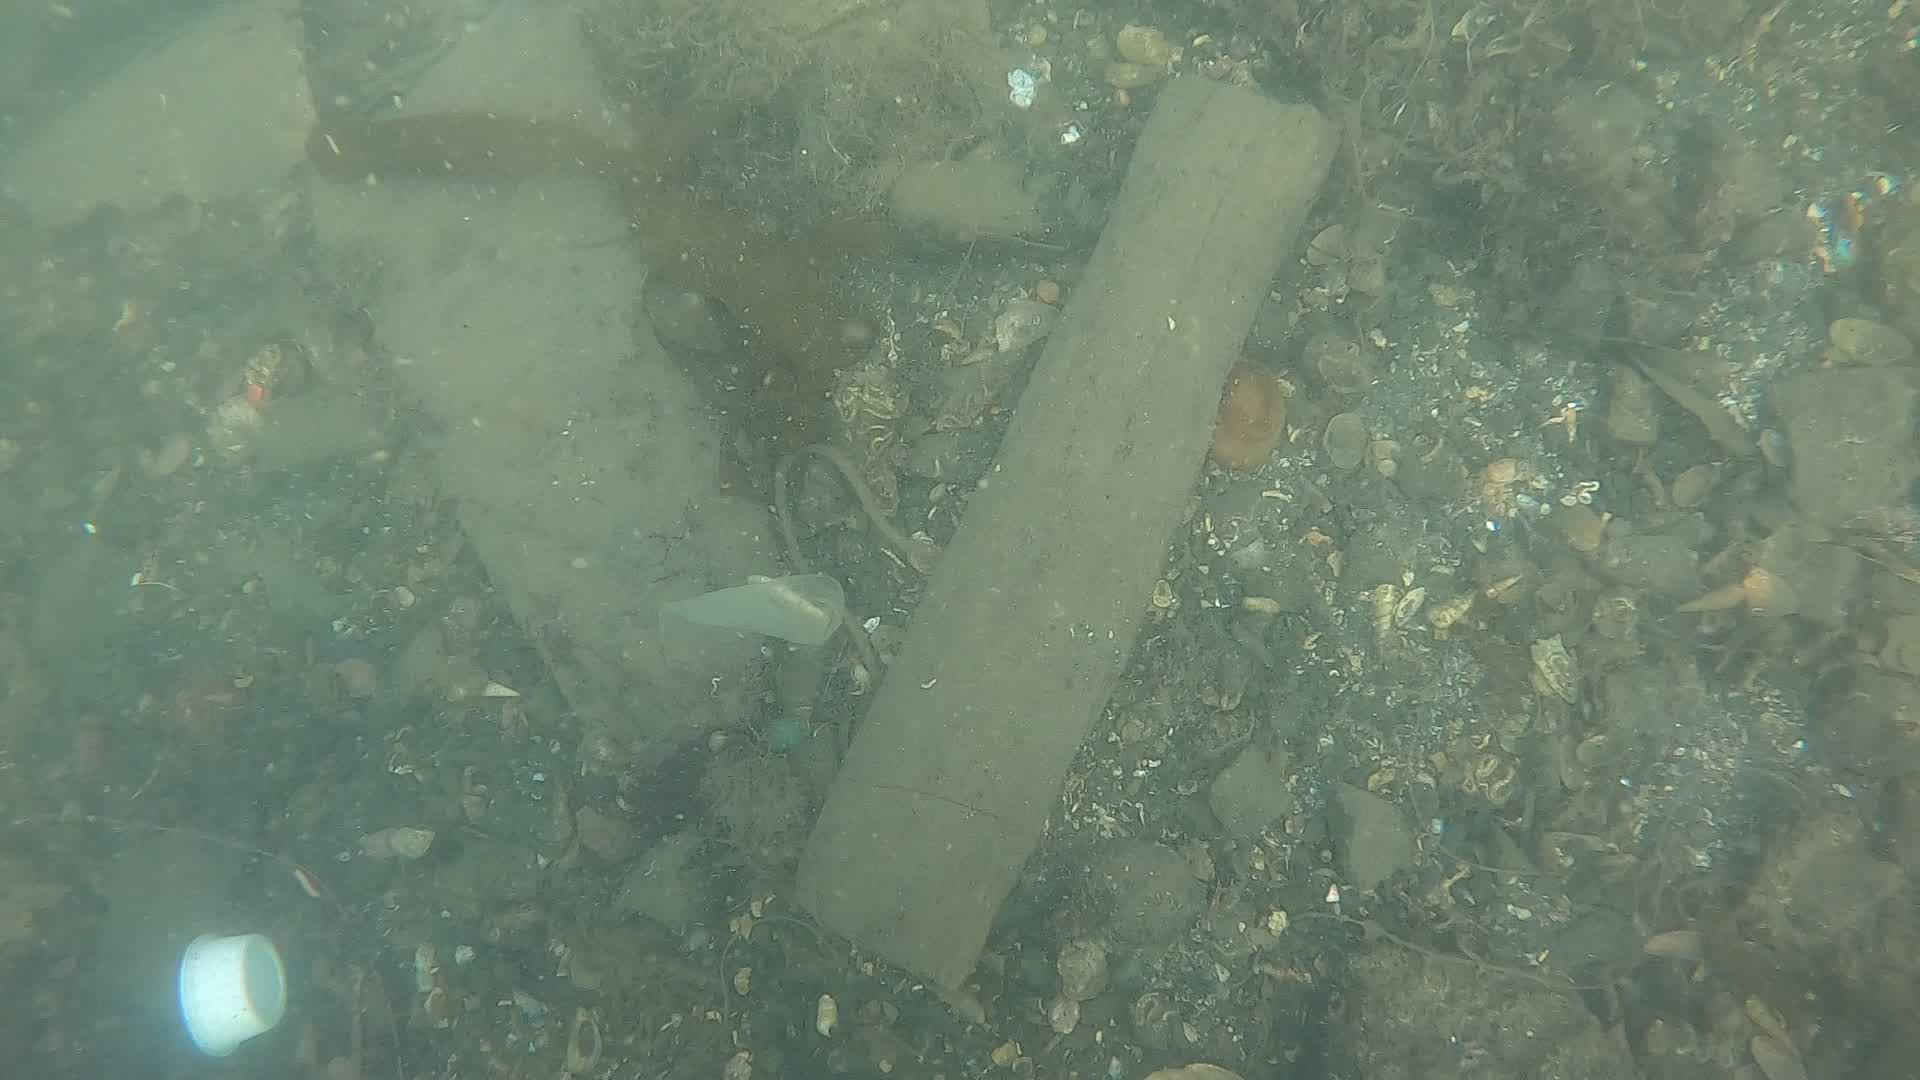wood: (786, 70, 1332, 986)
